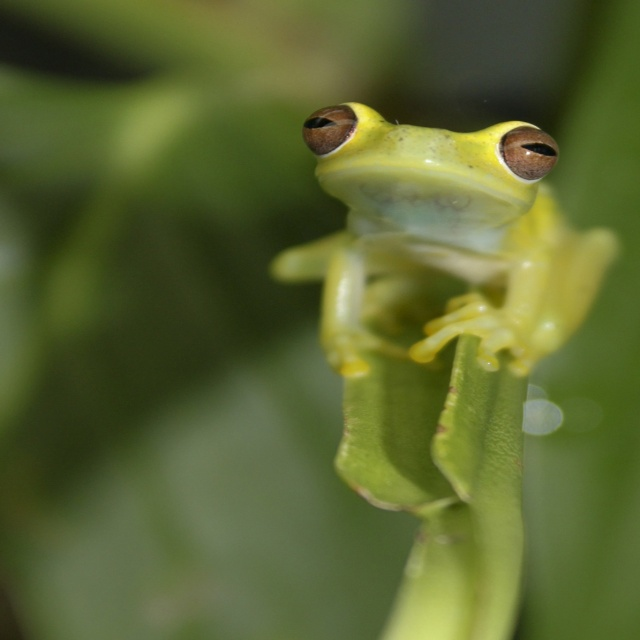Frog: (263, 98, 620, 378)
